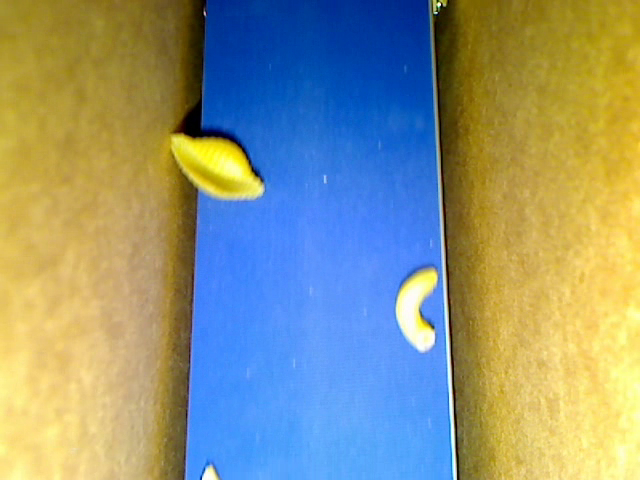elbow: (395, 265, 439, 353)
shell: (169, 133, 266, 202)
